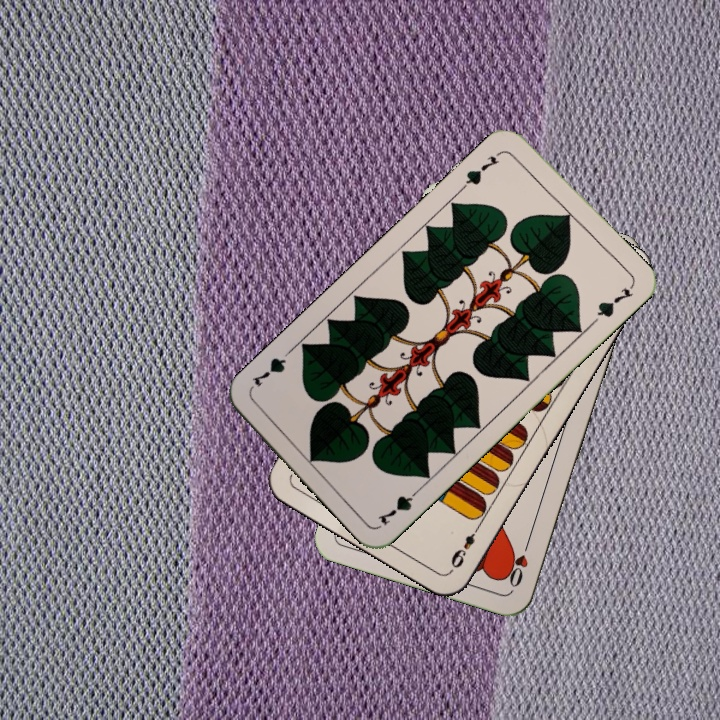E9: (446, 520, 484, 571)
G7: (373, 483, 424, 528), (458, 147, 505, 192)
HO: (503, 534, 533, 590)
